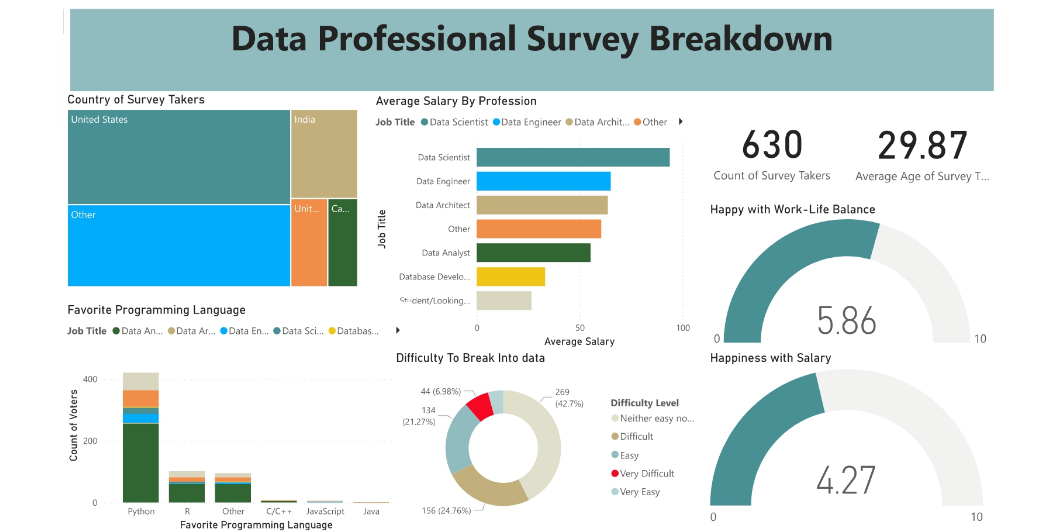

This screenshot's page, from the dashboard's own definition file:
{"tool":"powerbi","page":{"name":"Page 1","canvas":[1280,720],"ordinal":0},"visuals":[{"type":"image","box":[50,0,1230,720],"z":0}]}

Visuals, with their boxes on the page's 1280x720 design canvas (x1, y1, x2, y2). These are canvas units, not pixel positions in the 1045x532 screenshot, which may show the page scaled, cropped or inside an application window:
image: <region>50, 0, 1280, 720</region>
